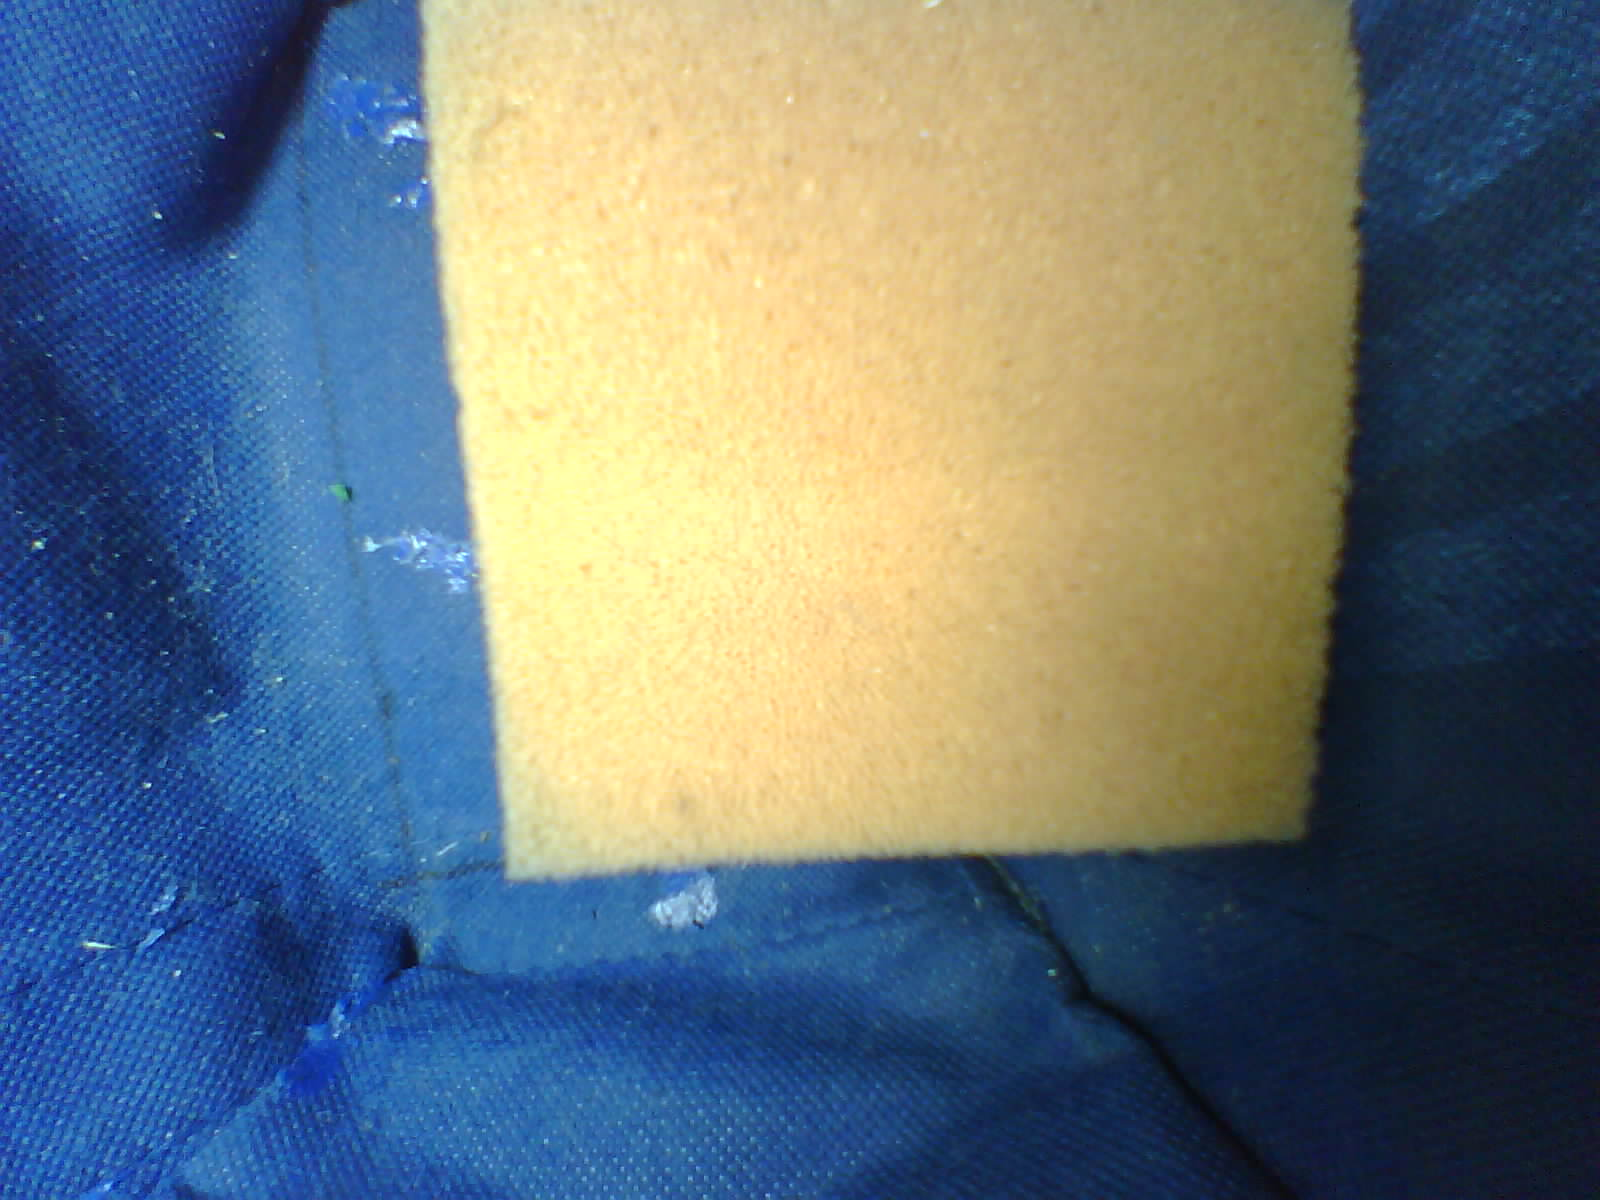cube-soft: (397, 0, 1388, 932)
